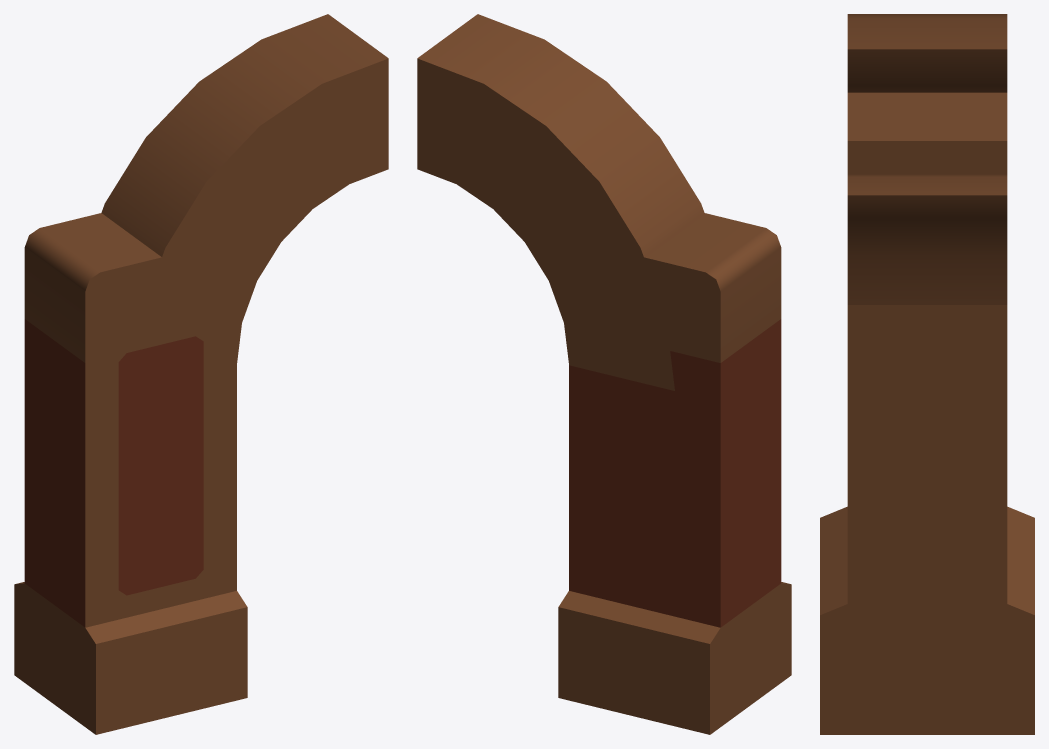
Rendered from BrickGateL_Mesh.fbx.
The picture shows the model from 3 angles, left to right: view 1: azimuth 30°, elevation 25°; view 2: azimuth 150°, elevation 25°; view 3: azimuth 270°, elevation 25°; orthographic projection. The views are drawn at different scales.
Parts seen in each view (by area): view 1: BrickGateL_Mesh; view 2: BrickGateL_Mesh; view 3: BrickGateL_Mesh.
Boxes of the visible parts, x1=… form: BrickGateL_Mesh: x1=14, y1=14, x2=388, y2=734; BrickGateL_Mesh: x1=417, y1=14, x2=791, y2=734; BrickGateL_Mesh: x1=820, y1=14, x2=1034, y2=734.
Size of the model in its own units: 1 by 1.87 by 0.4661.
